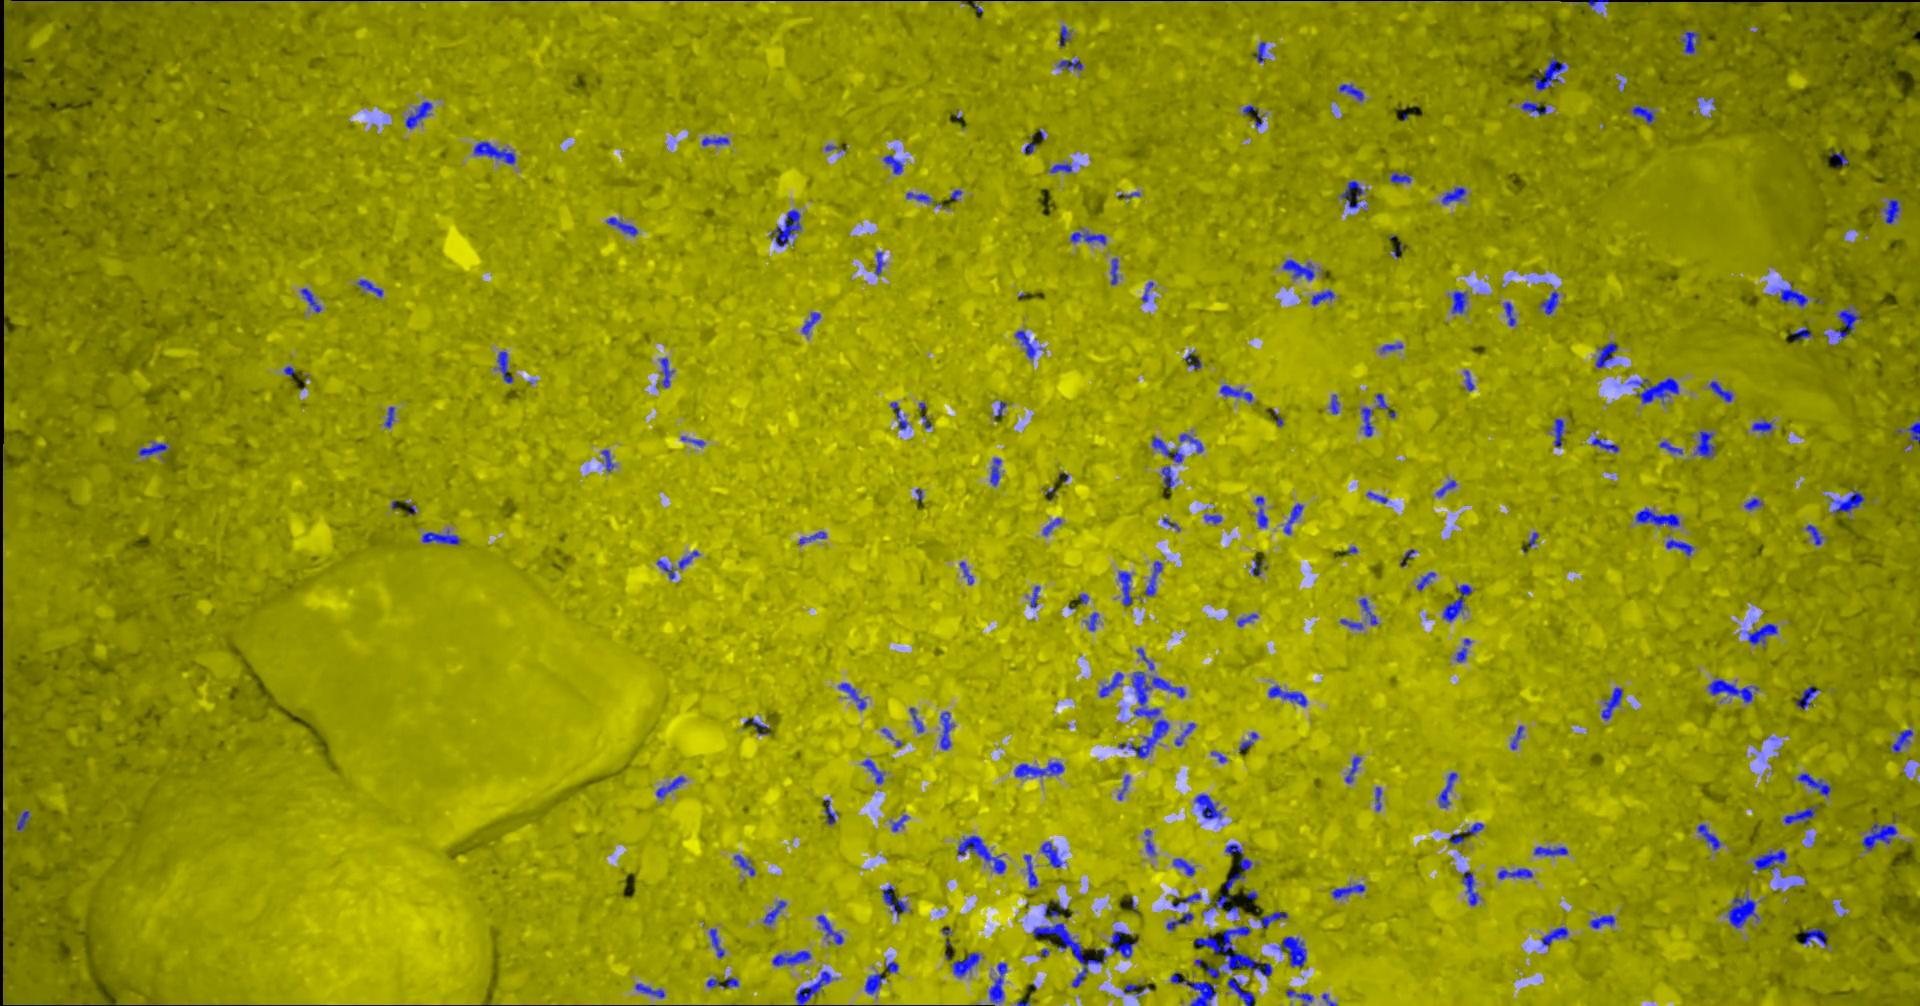ant: (1032, 922, 1106, 987), (1194, 925, 1271, 976), (957, 835, 1004, 873), (1170, 972, 1217, 1005), (1206, 873, 1243, 911), (1627, 377, 1677, 403), (795, 970, 830, 1005), (1707, 680, 1757, 702), (1531, 56, 1564, 90), (770, 210, 800, 246), (1727, 894, 1759, 929), (1443, 584, 1470, 621), (1272, 936, 1305, 967), (1862, 821, 1896, 850), (472, 141, 516, 164), (1150, 436, 1183, 462), (1634, 507, 1679, 526), (1225, 977, 1255, 1005), (1834, 309, 1859, 340), (1269, 685, 1305, 706), (817, 915, 843, 944), (1797, 774, 1830, 796), (1752, 848, 1785, 871), (1194, 793, 1222, 819), (1224, 843, 1252, 870), (1109, 930, 1137, 956), (1015, 761, 1063, 776), (988, 962, 1006, 1002), (838, 682, 865, 709), (951, 951, 979, 977), (1830, 492, 1864, 512), (883, 885, 905, 916), (1600, 687, 1622, 719), (405, 102, 430, 128), (655, 775, 684, 798), (1143, 560, 1162, 594), (1437, 772, 1457, 807), (1283, 259, 1314, 279), (1098, 671, 1123, 697), (1340, 180, 1363, 208), (1747, 622, 1777, 644), (1283, 503, 1303, 533), (1693, 431, 1716, 457), (606, 217, 637, 236), (1779, 285, 1807, 306), (1219, 384, 1252, 401), (1783, 805, 1816, 823), (1697, 823, 1719, 848), (772, 950, 810, 965), (1040, 841, 1062, 868), (1015, 330, 1035, 358), (422, 528, 458, 544), (1796, 685, 1818, 709), (300, 287, 321, 312), (1595, 342, 1617, 367), (1462, 871, 1478, 904), (889, 401, 908, 429), (938, 711, 952, 749), (763, 901, 786, 923), (1708, 380, 1732, 401), (861, 760, 883, 784), (1258, 911, 1288, 929), (1540, 926, 1567, 945), (1331, 883, 1364, 898), (1175, 721, 1195, 746), (497, 351, 512, 382), (1891, 729, 1912, 751), (733, 854, 754, 875), (1242, 104, 1262, 127), (634, 983, 664, 998), (1665, 539, 1693, 555), (1117, 572, 1131, 605), (1023, 854, 1037, 887), (1680, 30, 1699, 55), (1178, 433, 1203, 452), (1359, 598, 1377, 624), (1171, 892, 1200, 907), (743, 718, 770, 734), (1343, 756, 1360, 782), (1166, 912, 1192, 929), (1285, 988, 1312, 1005), (863, 972, 884, 993), (1070, 231, 1105, 244), (1539, 291, 1558, 314), (1338, 83, 1363, 100), (1441, 187, 1465, 205), (1802, 927, 1826, 945), (659, 357, 673, 387), (137, 442, 168, 456), (709, 929, 724, 956), (357, 279, 382, 296), (801, 312, 820, 334), (1591, 437, 1618, 452), (1044, 899, 1067, 917), (1255, 495, 1267, 527), (1630, 105, 1655, 122), (883, 154, 902, 174), (1172, 857, 1194, 875), (1137, 647, 1153, 669), (1883, 199, 1898, 224), (657, 560, 676, 579), (706, 977, 738, 988), (1806, 525, 1823, 545), (678, 550, 698, 568), (1435, 479, 1457, 495), (1520, 100, 1545, 114), (797, 531, 825, 544), (1589, 915, 1614, 929), (1123, 983, 1148, 997), (1310, 290, 1333, 305), (1451, 290, 1467, 312), (599, 448, 615, 471), (1455, 638, 1470, 661), (1497, 868, 1531, 878), (1829, 149, 1848, 166), (1416, 572, 1435, 589), (1238, 732, 1257, 749), (1658, 439, 1683, 453), (909, 708, 923, 732), (1361, 406, 1373, 436), (823, 799, 836, 824), (1552, 418, 1563, 446), (959, 561, 973, 584), (1043, 518, 1062, 535), (1463, 822, 1483, 837), (1510, 725, 1523, 749), (1533, 846, 1567, 855), (1251, 41, 1265, 62), (1057, 58, 1082, 70), (905, 191, 931, 202), (1790, 326, 1811, 340), (989, 457, 999, 485), (1161, 466, 1175, 486), (1503, 301, 1515, 325), (1117, 775, 1129, 799), (1143, 829, 1154, 854), (1906, 420, 1919, 442), (1236, 614, 1257, 626), (1183, 352, 1200, 368), (891, 814, 908, 831), (1399, 549, 1415, 567), (1084, 612, 1098, 630), (1338, 619, 1363, 629), (17, 810, 29, 829), (701, 136, 728, 145), (1059, 25, 1070, 46), (1463, 370, 1474, 390), (1751, 420, 1771, 432), (1366, 492, 1387, 503), (1743, 497, 1761, 509), (1380, 342, 1402, 352), (1390, 171, 1410, 183), (875, 251, 884, 276), (383, 406, 394, 427), (1110, 258, 1117, 285), (1205, 963, 1218, 978), (1049, 163, 1070, 171), (1030, 586, 1039, 607), (1251, 559, 1262, 575), (1375, 392, 1387, 408), (1330, 394, 1338, 413), (1203, 514, 1222, 523), (1448, 833, 1464, 843), (1375, 786, 1382, 810), (886, 962, 898, 972)
